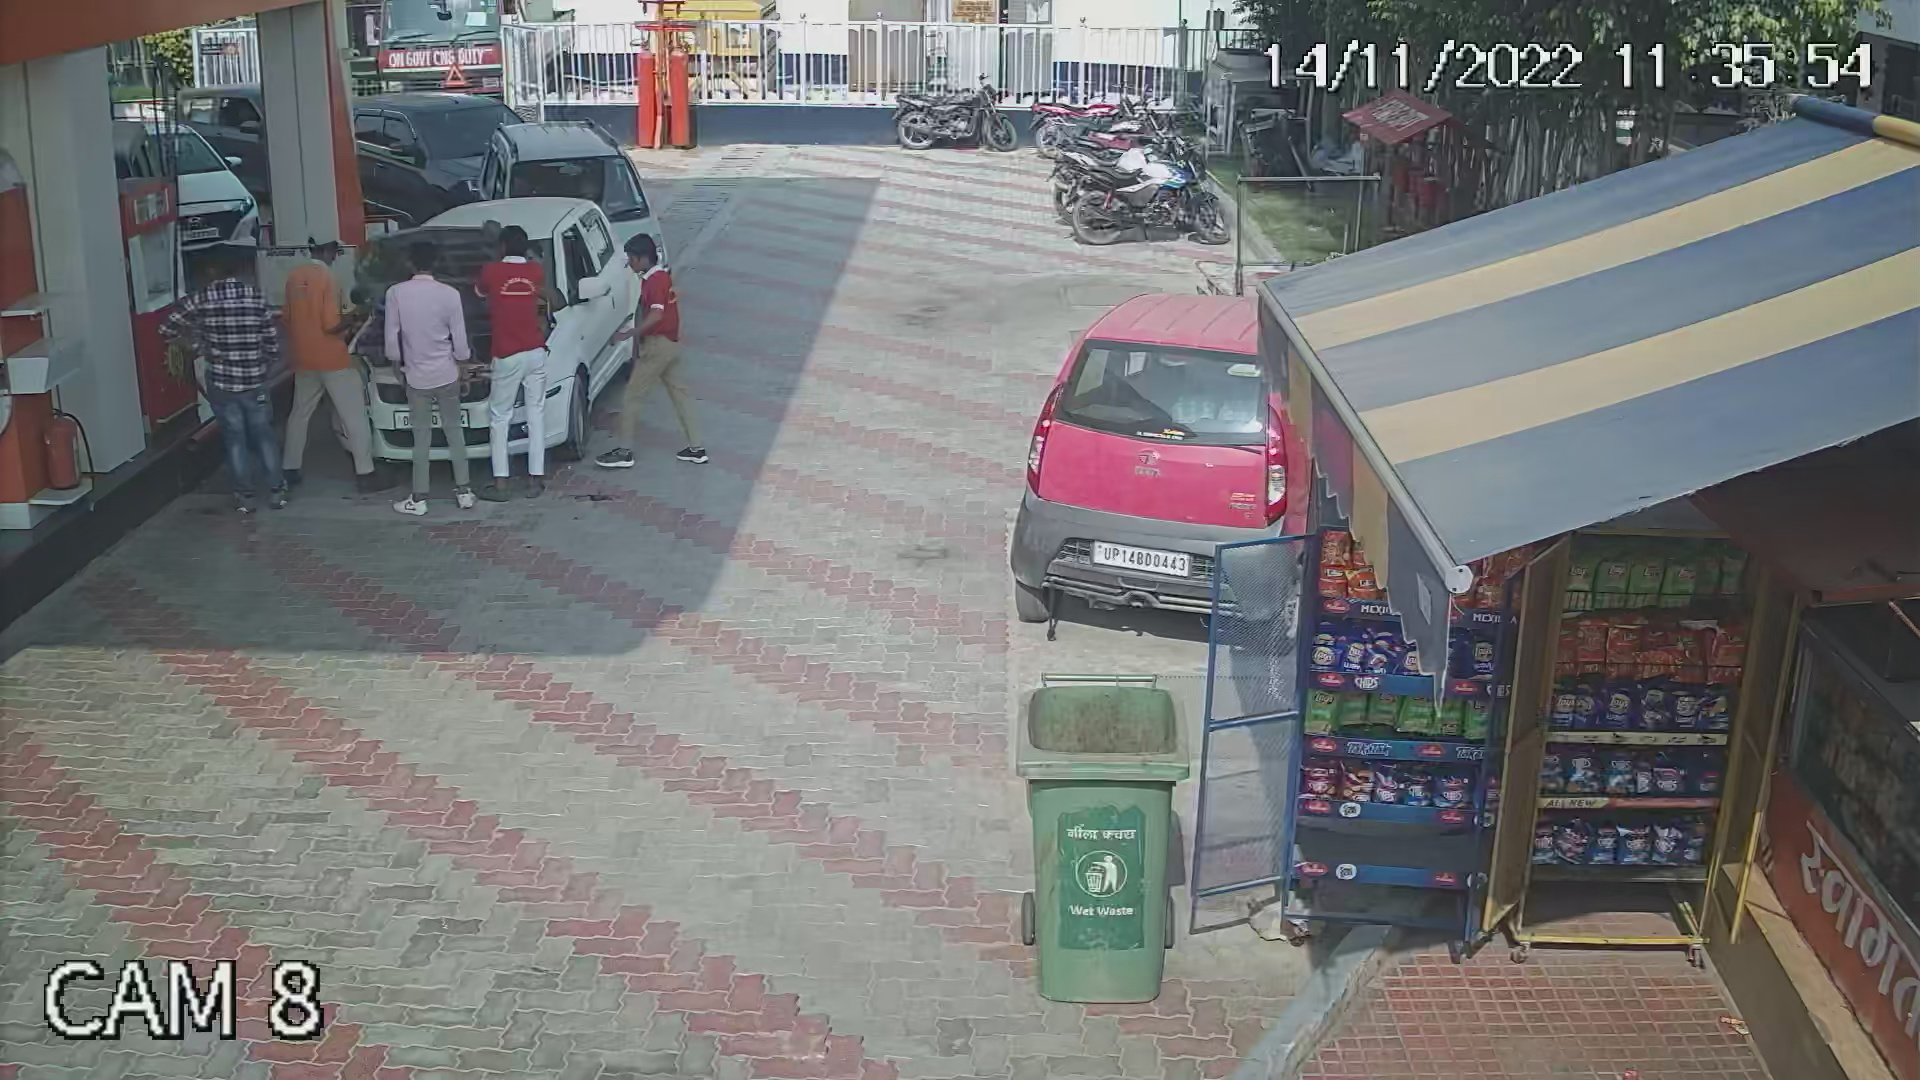Bike: (1040, 96, 1230, 257), (884, 78, 1021, 160)
Car: (998, 268, 1348, 628), (324, 191, 646, 469), (471, 109, 676, 297), (353, 86, 525, 210), (137, 120, 266, 241), (173, 74, 262, 158)
HMV: (373, 0, 579, 95)
Others: (278, 219, 382, 488)
